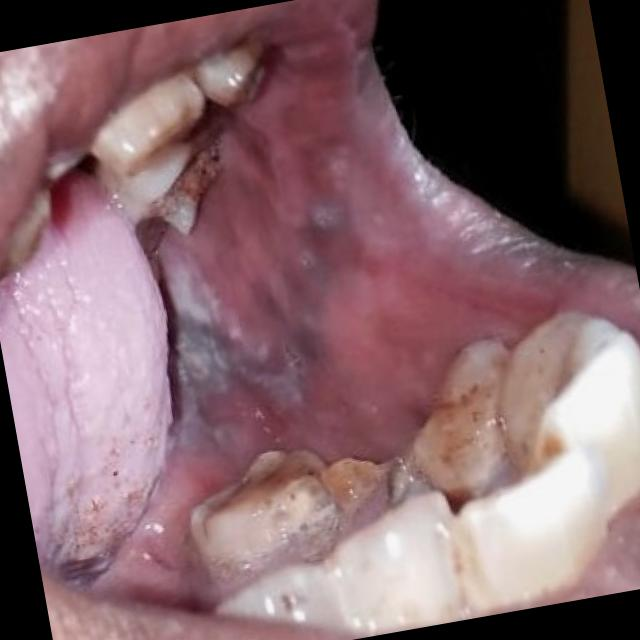Cancer: (117, 190, 387, 458), (20, 440, 170, 603)
